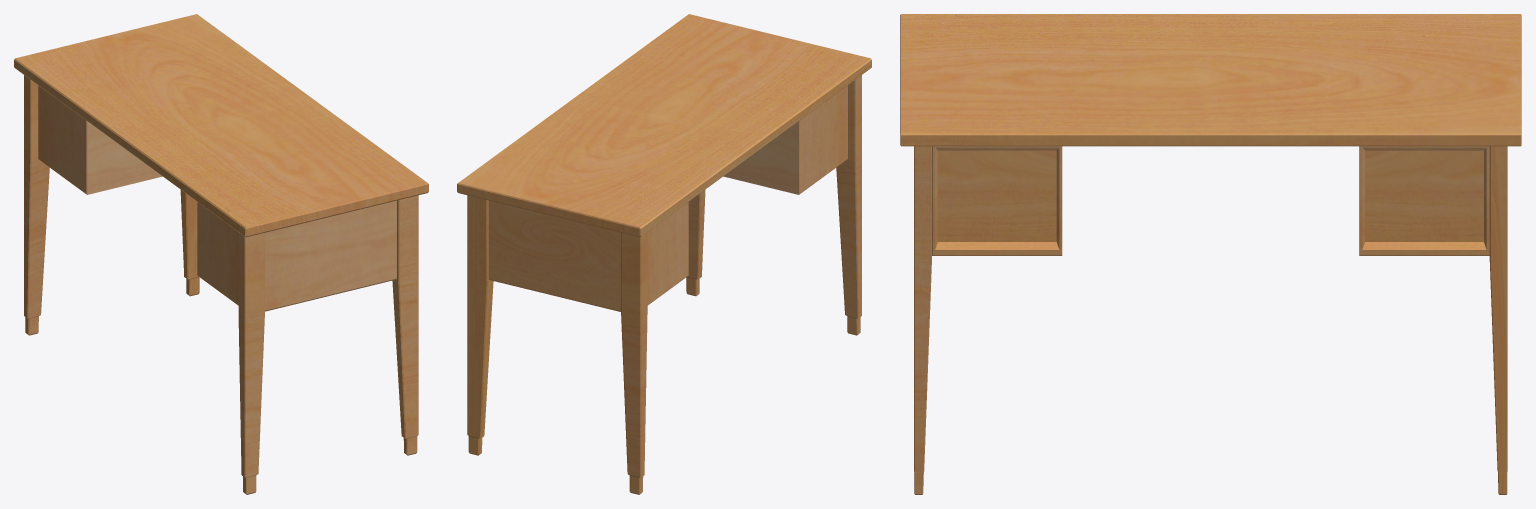
The model's file is aws_ReadingDesk_01_visual.DAE.
The picture shows the model from 3 angles, left to right: view 1: azimuth 30°, elevation 25°; view 2: azimuth 150°, elevation 25°; view 3: azimuth 270°, elevation 25°; orthographic projection. The views are drawn at different scales.
Visible parts, largest first — view 1: aws_ReadingDesk_01_visual; view 2: aws_ReadingDesk_01_visual; view 3: aws_ReadingDesk_01_visual.
Part boxes in pixels (x1,y1,x2,y2): aws_ReadingDesk_01_visual: (14,14,428,494); aws_ReadingDesk_01_visual: (457,14,871,494); aws_ReadingDesk_01_visual: (900,14,1521,494).
Bounding box in the file's own units: 52.45 × 114 × 74.33.
Materials: 1 (1 with a texture image).
